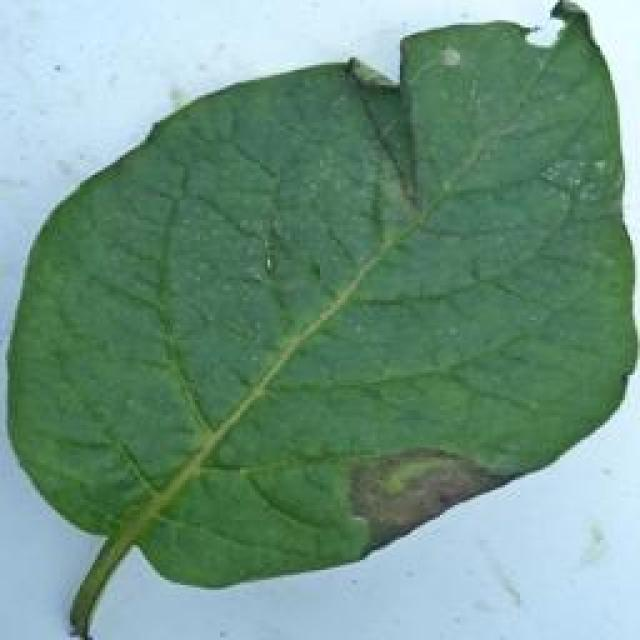Potato_Late_Blight: (10, 7, 626, 626)
